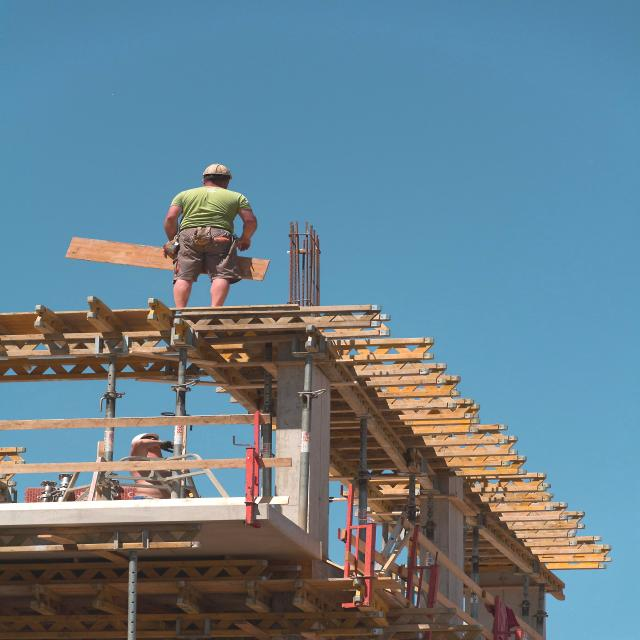hand_noglove: (232, 236, 254, 254)
head_helmet: (197, 162, 240, 174)
person: (160, 160, 261, 308)
